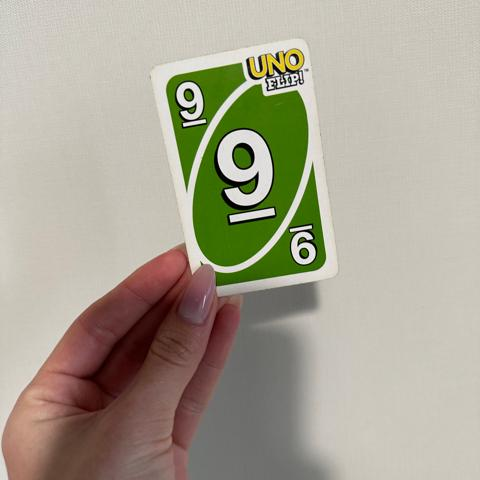draw2_green: (214, 129, 277, 226), (173, 80, 211, 127), (288, 226, 318, 267)
